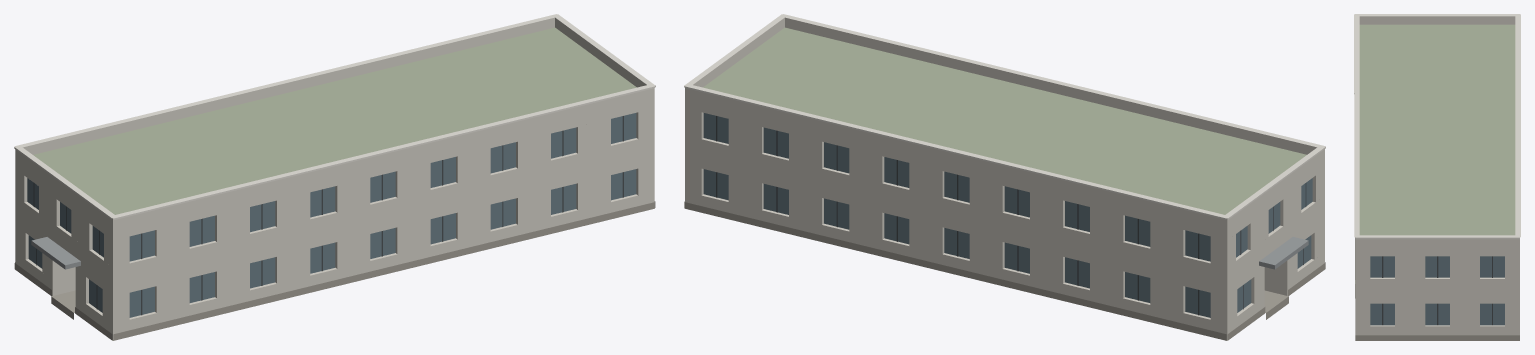
The picture shows the model from 3 angles, left to right: view 1: azimuth 30°, elevation 25°; view 2: azimuth 150°, elevation 25°; view 3: azimuth 270°, elevation 25°; orthographic projection. The views are drawn at different scales.
Visible parts, largest first — view 1: unk8466__wall, unk8466__roof, unk8466__glass, unk8466__parapet, unk8466__trim, unk8466__base, unk8466__frame, unk8466__canopy; view 2: unk8466__wall, unk8466__roof, unk8466__glass, unk8466__parapet, unk8466__trim, unk8466__base, unk8466__frame, unk8466__canopy; view 3: unk8466__roof, unk8466__wall, unk8466__trim, unk8466__glass, unk8466__parapet, unk8466__base, unk8466__frame.
Part boxes in pixels (x1,y1,x2,y2): unk8466__wall: (15,96,654,340); unk8466__roof: (33,27,636,340); unk8466__glass: (27,113,636,317); unk8466__parapet: (15,17,654,227); unk8466__trim: (14,14,655,219); unk8466__base: (14,201,655,340); unk8466__frame: (33,116,623,315); unk8466__canopy: (31,237,80,269); unk8466__wall: (685,96,1324,340); unk8466__roof: (703,27,1306,340); unk8466__glass: (703,113,1312,317); unk8466__parapet: (685,17,1324,227); unk8466__trim: (684,14,1325,219); unk8466__base: (684,201,1325,340); unk8466__frame: (716,116,1306,315); unk8466__canopy: (1259,237,1308,269); unk8466__roof: (1355,24,1515,283); unk8466__wall: (1355,237,1519,335); unk8466__trim: (1354,14,1520,239); unk8466__glass: (1370,256,1504,325); unk8466__parapet: (1355,16,1519,245); unk8466__base: (1355,335,1519,340); unk8466__frame: (1382,256,1492,325).
Bounding box in the file's own units: 35.33 × 7.8 × 10.83.
